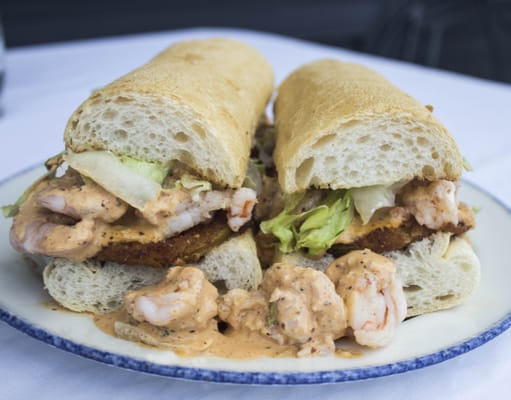curry: (259, 188, 356, 259)
soup: (3, 37, 276, 280), (259, 58, 476, 259)
